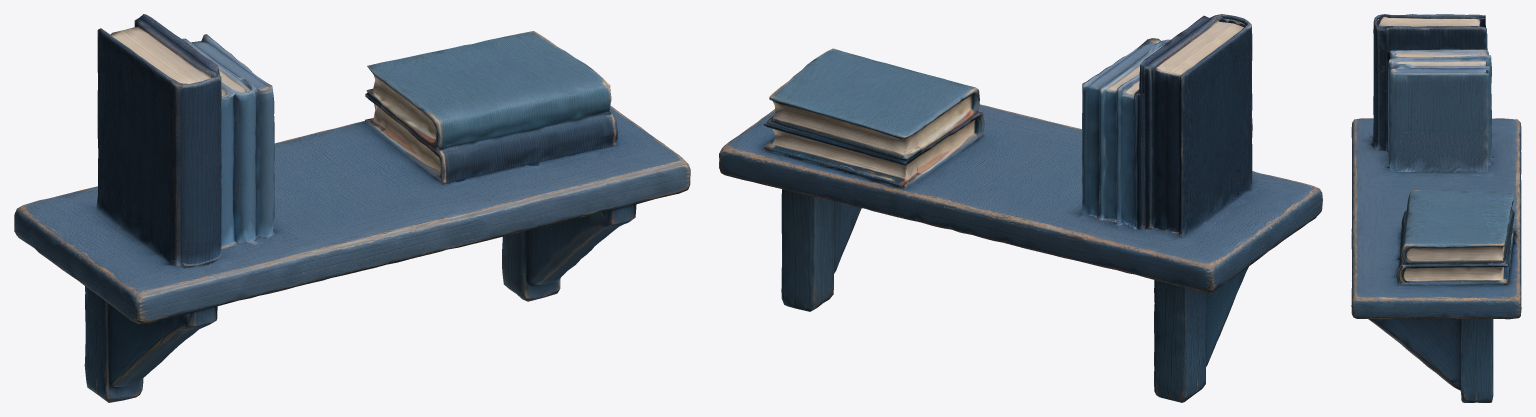
File: VAR_Bedroom_WallShelf.fbx
3 renders of one model, left to right at view 1: azimuth 30°, elevation 25°; view 2: azimuth 150°, elevation 25°; view 3: azimuth 270°, elevation 25°, orthographic. The views are drawn at different scales.
Visible parts, largest first — view 1: texture_mapping; view 2: texture_mapping; view 3: texture_mapping.
Part boxes in pixels (x1,y1,x2,y2): texture_mapping: (14, 14, 690, 402); texture_mapping: (719, 14, 1322, 402); texture_mapping: (1351, 14, 1521, 402).
Bounding box in the file's own units: 1 × 0.3942 × 0.633.
1 material, 1 textured.
